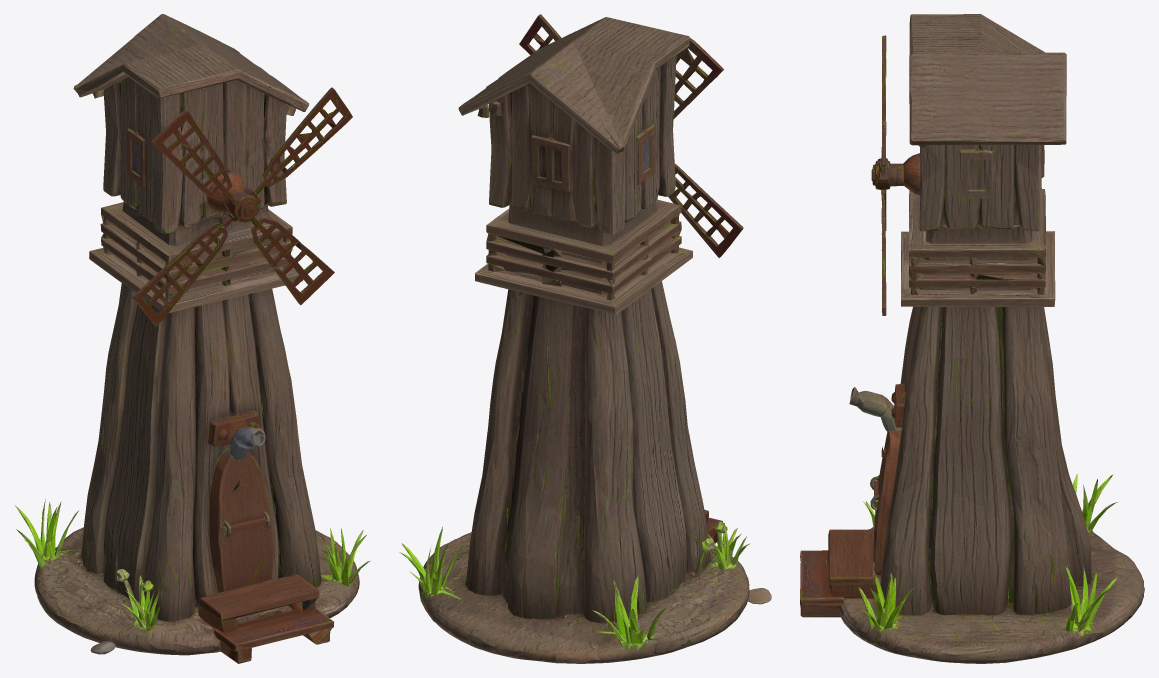
The model's file is windmill.glb.
3 renders of one model, left to right at view 1: azimuth 30°, elevation 25°; view 2: azimuth 150°, elevation 25°; view 3: azimuth 270°, elevation 25°, orthographic.
Size of the model in its own units: 1.04 by 1.9 by 1.08.
1 material, 1 textured.
